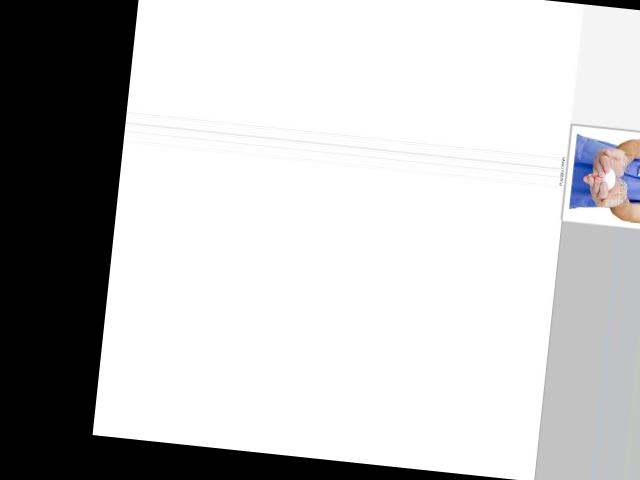egg: (600, 166, 616, 189)
